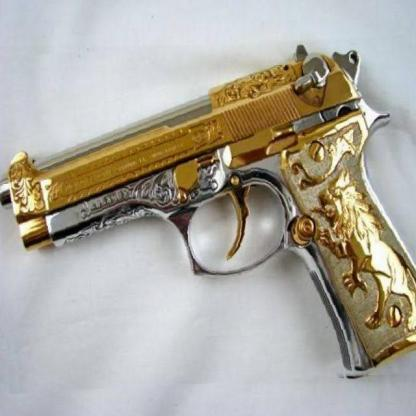handgun: (0, 40, 416, 389)
